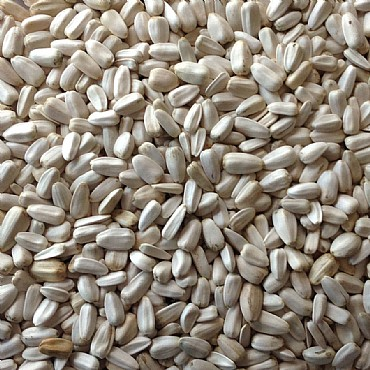seed: (1, 1, 370, 370)
